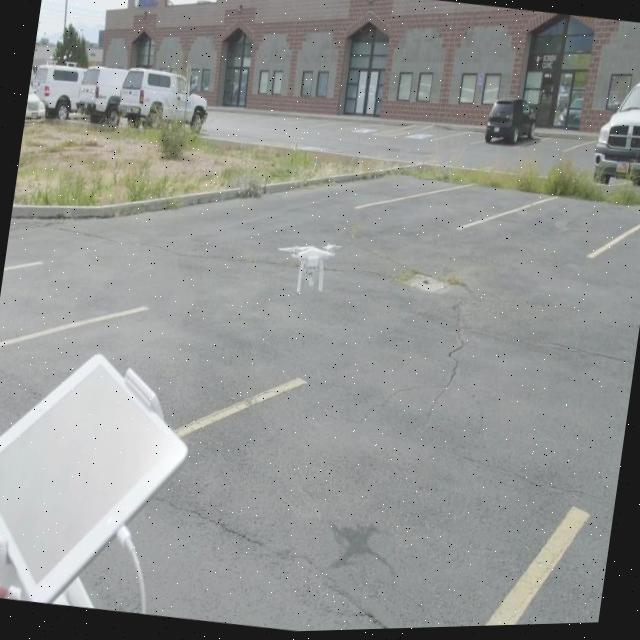drone: (271, 235, 345, 299)
